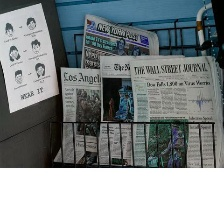news_paper: (127, 54, 223, 167), (97, 54, 182, 166), (51, 63, 122, 166), (77, 9, 164, 75)
